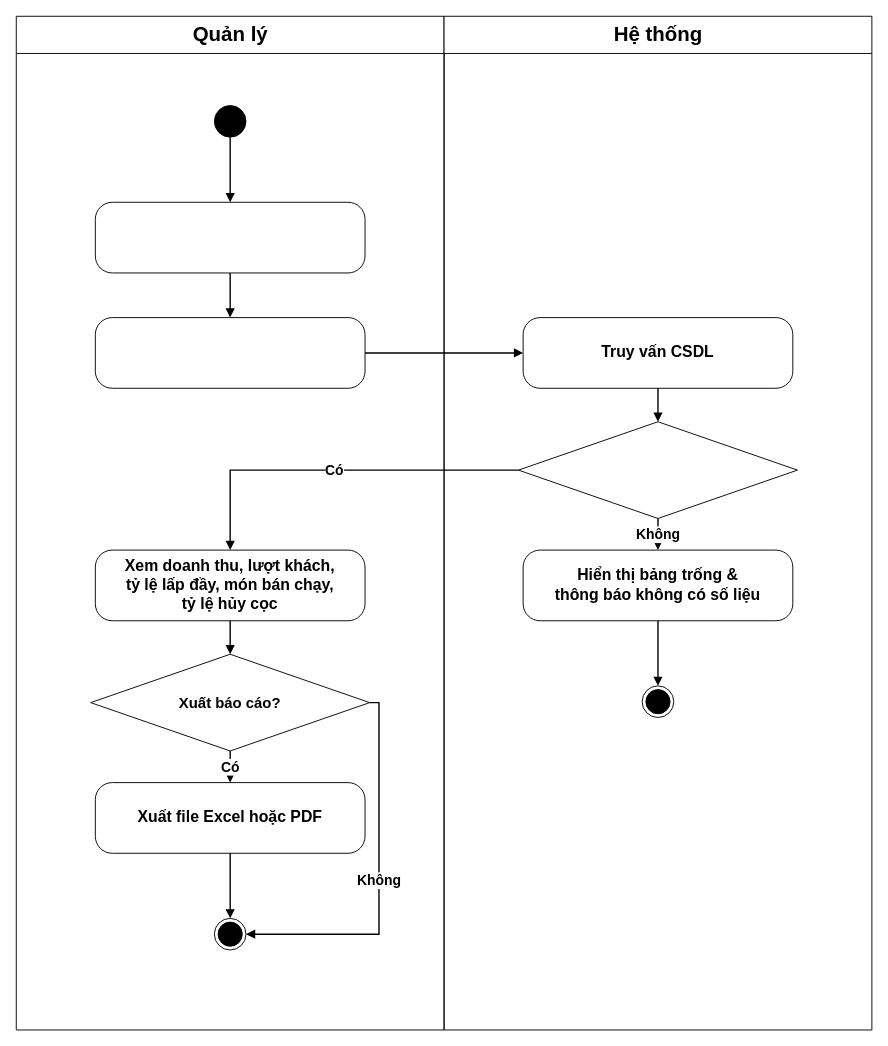
Some shapes in this 888 by 1046 pixel diagram are drawn without their labels. The box of each missing label's shape, as (x1, y1, x2, y2) in pixels:
Chọn khoảng thời gian (ngày, tuần, tháng, quý) & lọc khu vực / ca phục vụ: (94, 317, 365, 388)
Có dữ liệu?: (518, 421, 797, 518)
Mở phân hệ Báo cáo & Thống kê: (94, 201, 365, 273)
